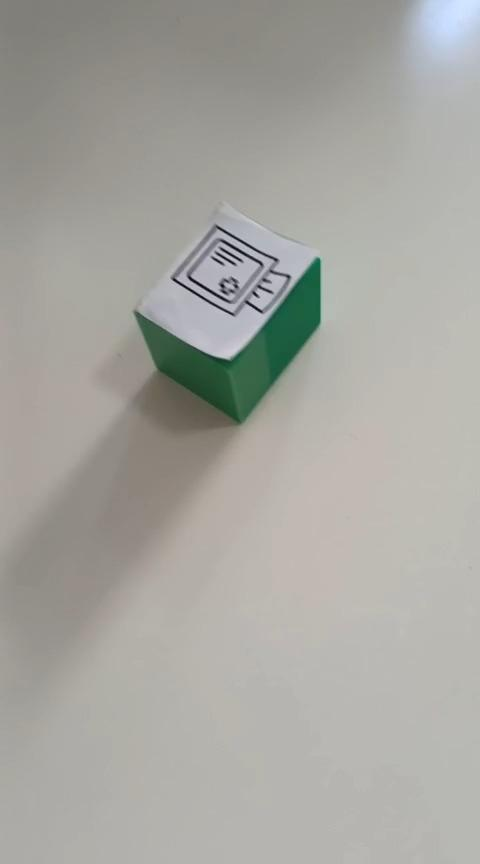Gauze: (132, 198, 322, 424)
